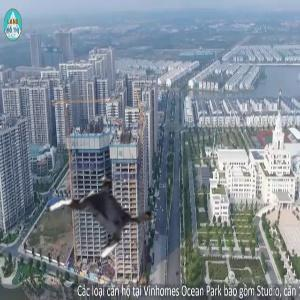drone: (55, 166, 153, 264)
